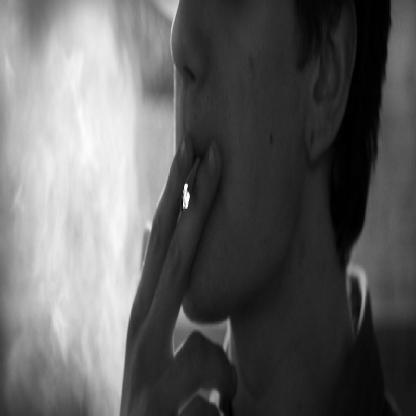smoking: (182, 156, 200, 212)
